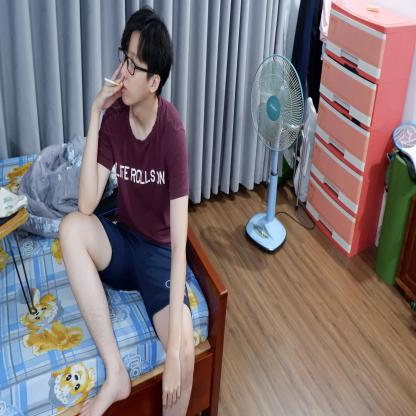cigarette: (104, 77, 119, 87)
person: (65, 4, 194, 415)
